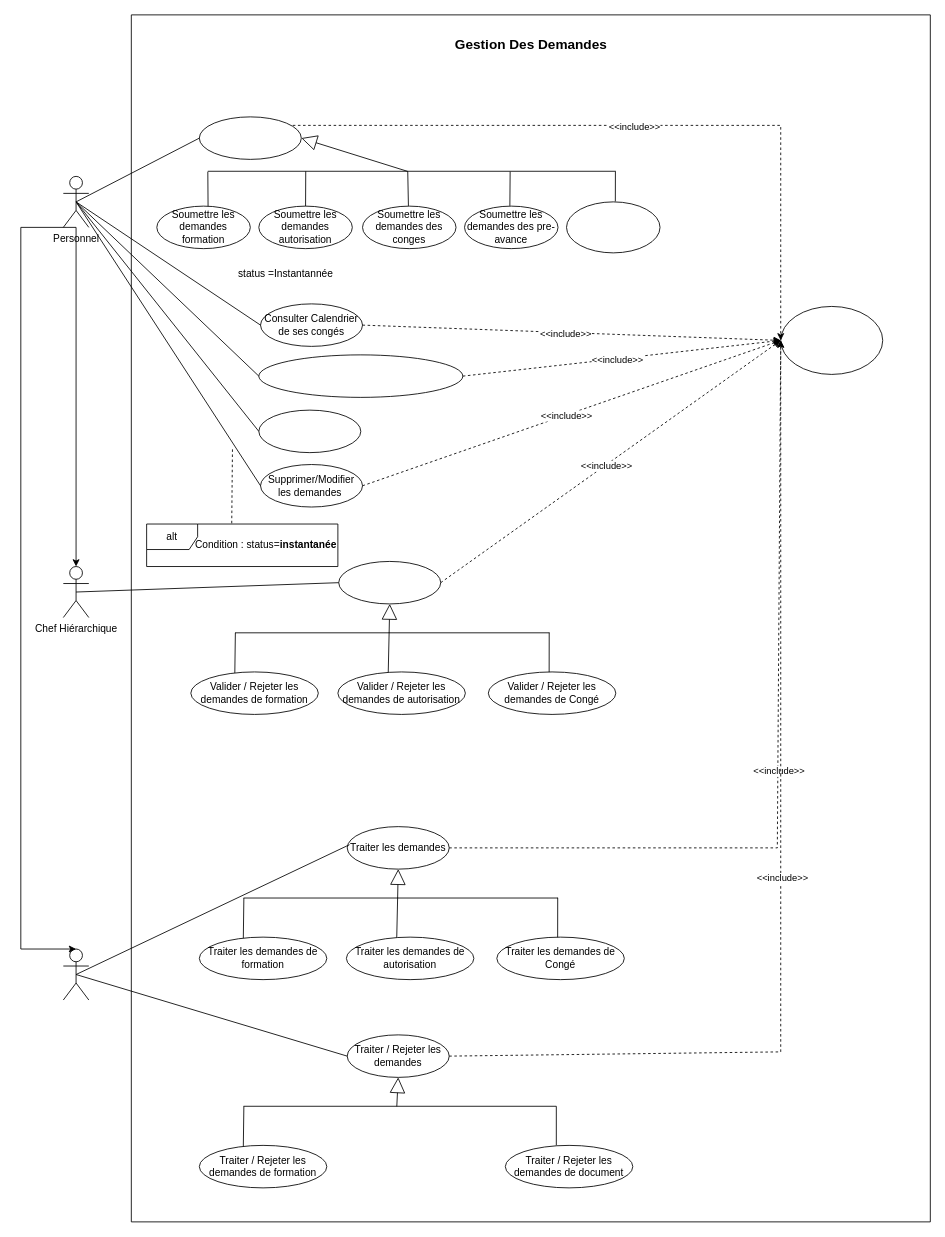
The diagram is 945 pixels wide and 1237 high, and some of its shapes have lost their labels. The centre of each missing label's shape, as x and y in pixels:
"Consulter ses document dans un espace spécifié" belongs at point 360,375.
"Recevoir des notifications" belongs at point 309,431.
"RH" belongs at point 75,974.
"S'authentifier" belongs at point 831,340.
"Soumettre les demandes" belongs at point 249,137.
"Soumettre les demandes des document" belongs at point 613,227.
"Valider / Rejeter les demandes" belongs at point 389,582.
